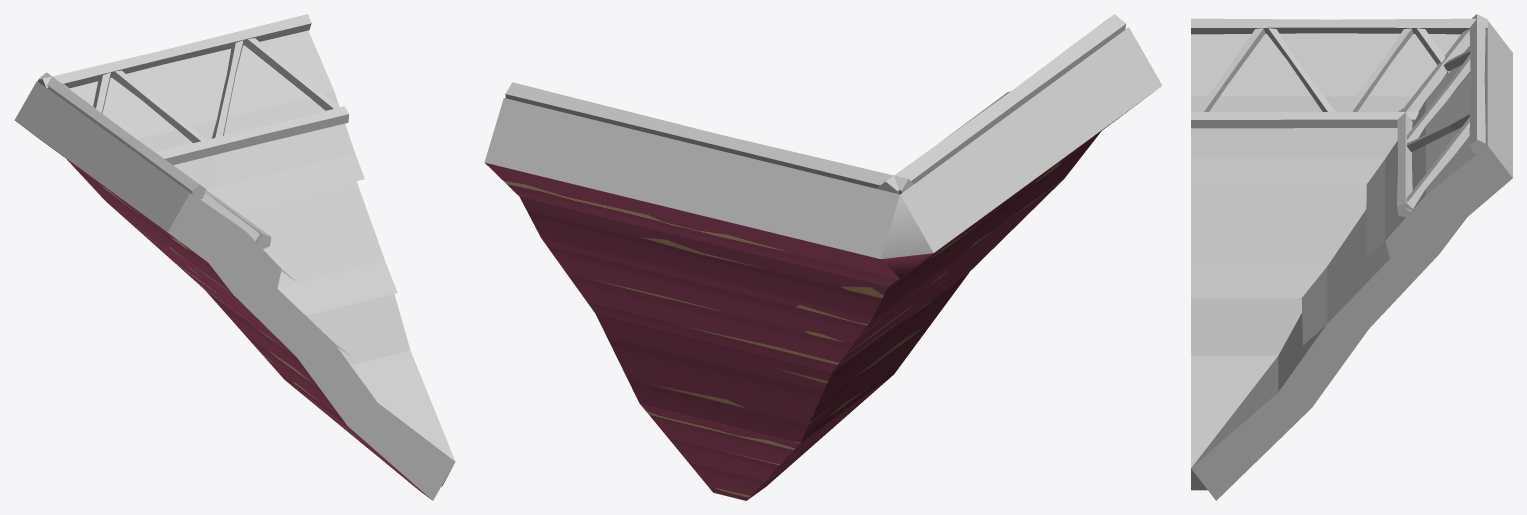
File: SM_Bld_Roof_Thatch_Corner_In_01.fbx
3 views of the same model, side by side, from view 1: azimuth 30°, elevation 25°; view 2: azimuth 150°, elevation 25°; view 3: azimuth 270°, elevation 25° (orthographic). The views are drawn at different scales.
Parts seen in each view (by area): view 1: SM_Bld_Roof_Thatch_Corner_In_01; view 2: SM_Bld_Roof_Thatch_Corner_In_01; view 3: SM_Bld_Roof_Thatch_Corner_In_01.
Part boxes in pixels (x1,y1,x2,y2): SM_Bld_Roof_Thatch_Corner_In_01: (14,14,455,500); SM_Bld_Roof_Thatch_Corner_In_01: (484,14,1162,500); SM_Bld_Roof_Thatch_Corner_In_01: (1191,14,1512,500).
Size of the model in its own units: 272 by 336 by 271.
